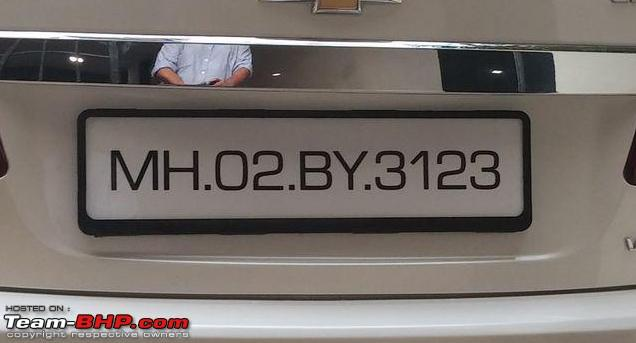number_plate: (76, 107, 536, 235)
